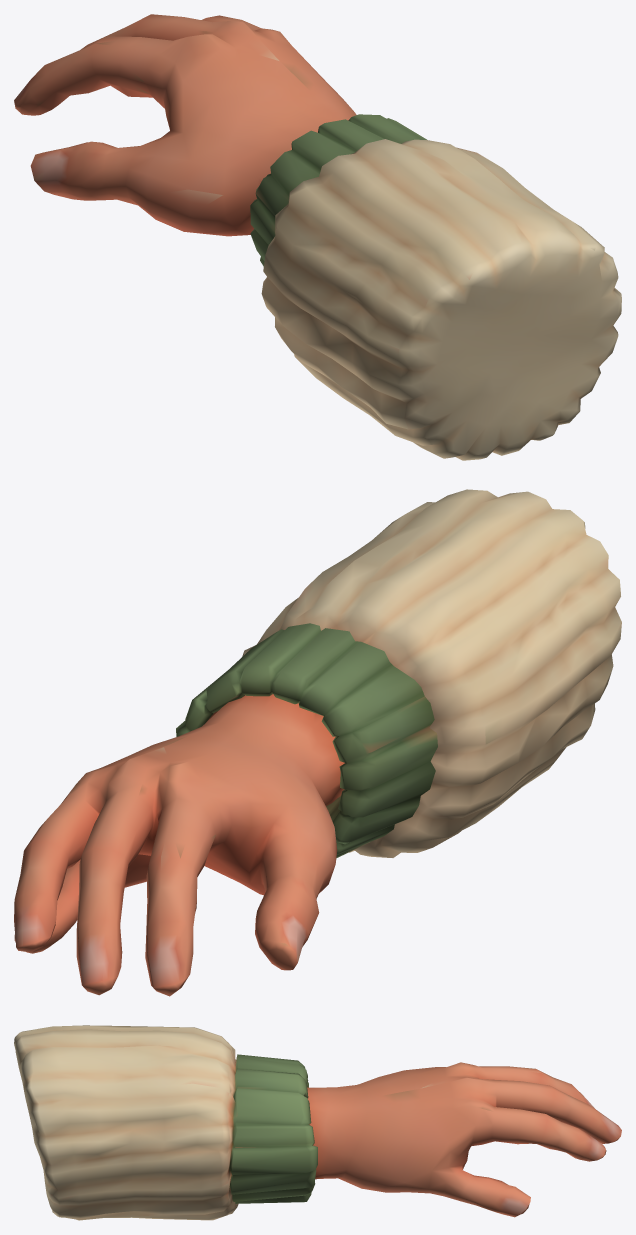
The model's file is open.glb.
3 renders of one model, top to bottom at view 1: azimuth 30°, elevation 25°; view 2: azimuth 150°, elevation 25°; view 3: azimuth 270°, elevation 25°, orthographic. The views are drawn at different scales.
Parts seen in each view (by area): view 1: hand; view 2: hand; view 3: hand.
Boxes of the visible parts, x1,y1,x2,y2 form: hand: [14, 14, 621, 460]; hand: [14, 489, 621, 996]; hand: [14, 1025, 621, 1220].
Bounding box in the file's own units: 0.1035 × 0.0945 × 0.3.
